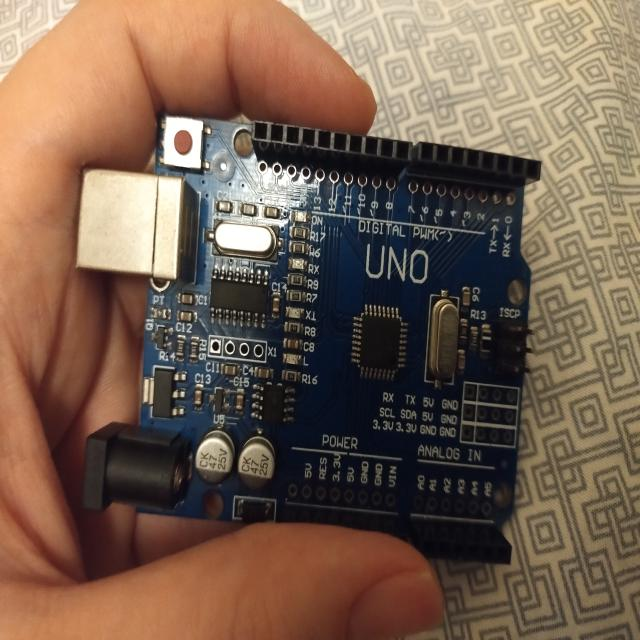arduino: (65, 93, 528, 581)
